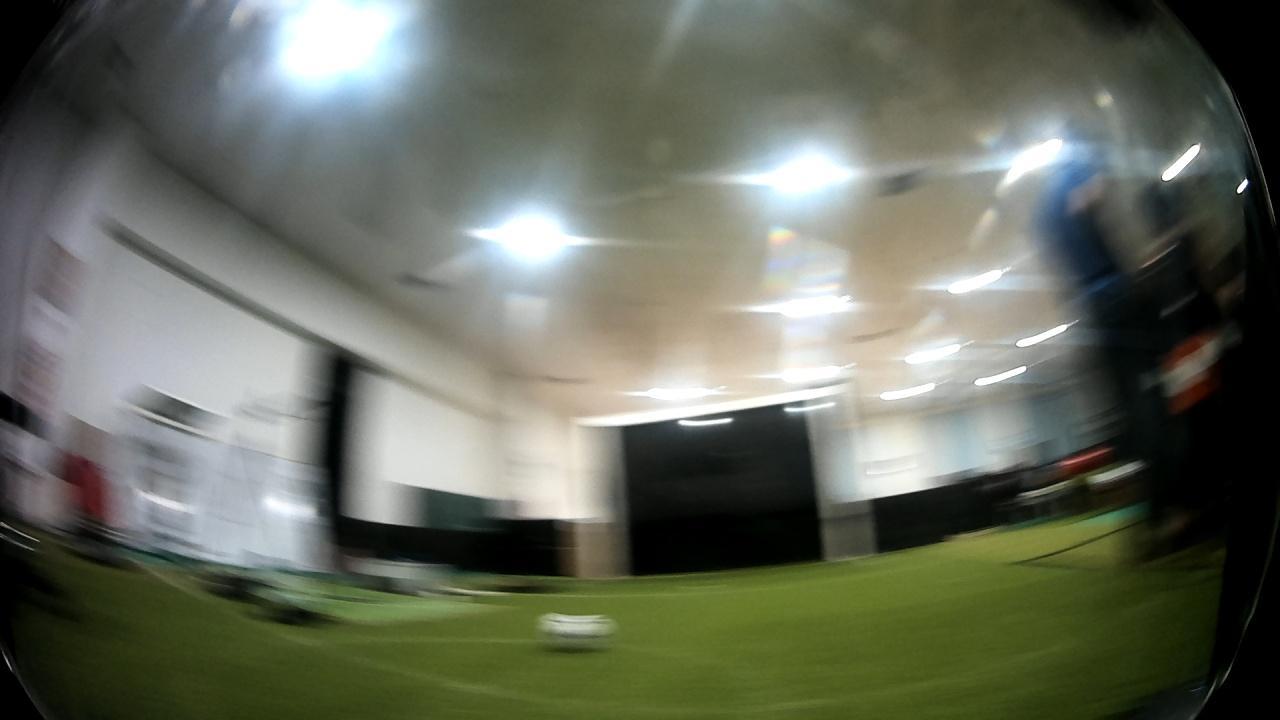ball: (536, 607, 617, 652)
